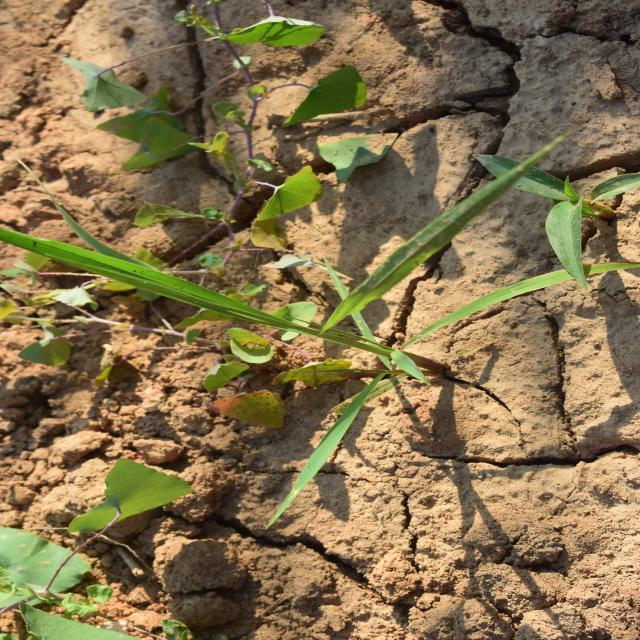green_foxtail: (236, 18, 447, 510)
